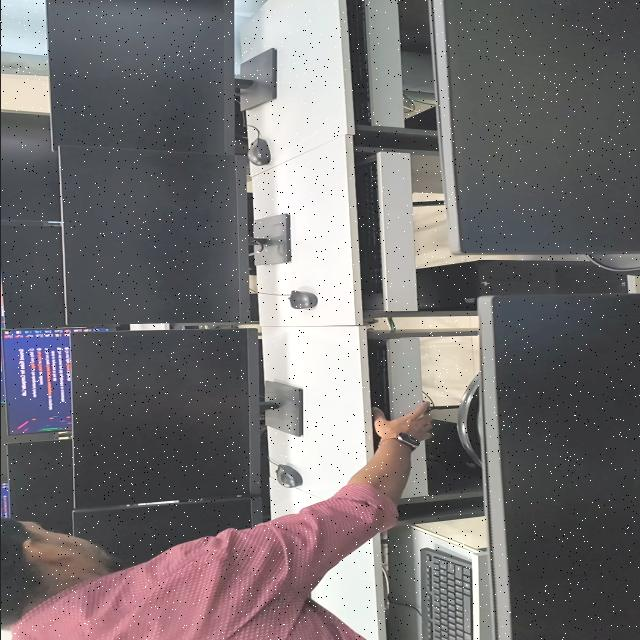Cpu: (418, 261, 627, 309)
Keyboard: (420, 548, 472, 640)
Monitor: (479, 295, 640, 640), (428, 0, 640, 255), (72, 329, 268, 508), (58, 145, 249, 326), (45, 0, 234, 155), (72, 497, 259, 565), (1, 329, 70, 434), (0, 226, 66, 329), (0, 112, 59, 221), (6, 439, 72, 534)
Mouse: (275, 464, 301, 488), (247, 138, 269, 166), (288, 290, 316, 309)
